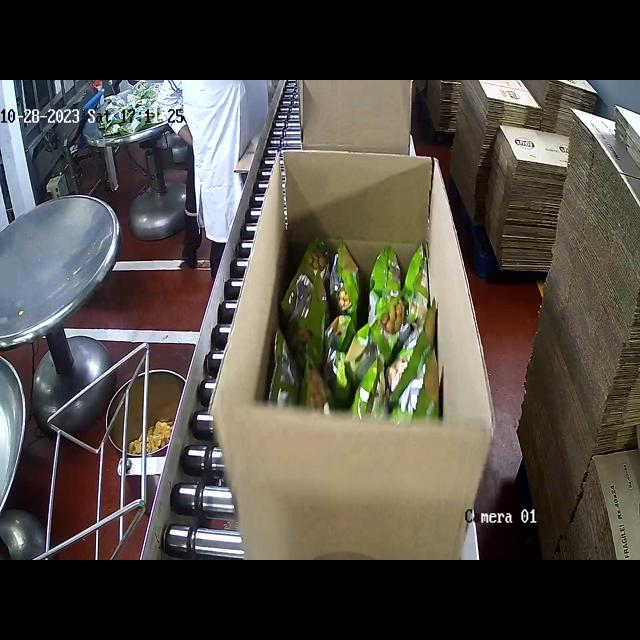yogurt: (265, 235, 441, 422)
